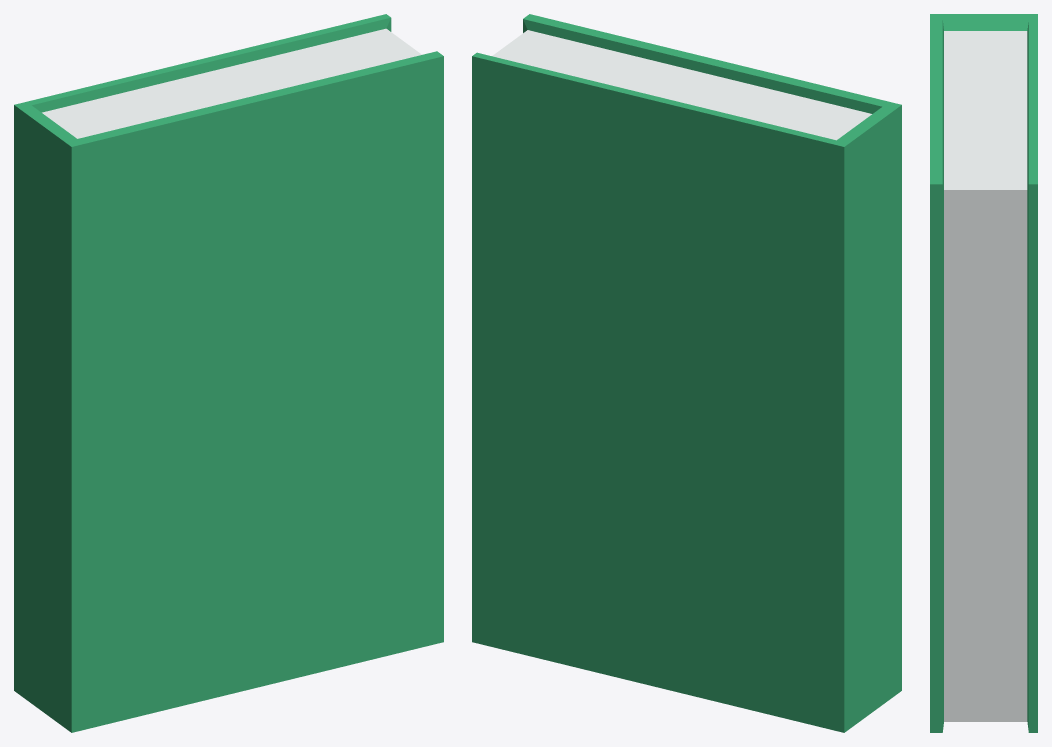
The model's file is livro3.fbx.
The picture shows the model from 3 angles, left to right: view 1: azimuth 30°, elevation 25°; view 2: azimuth 150°, elevation 25°; view 3: azimuth 270°, elevation 25°; orthographic projection. The views are drawn at different scales.
Parts seen in each view (by area): view 1: Cube.003; view 2: Cube.003; view 3: Cube.003.
Boxes of the visible parts, box(x1,y1,x2,y2) form: Cube.003: box(14, 14, 443, 732); Cube.003: box(472, 14, 901, 732); Cube.003: box(930, 14, 1037, 732).
Bounding box in the file's own units: 29.81 × 44.82 × 7.99.
